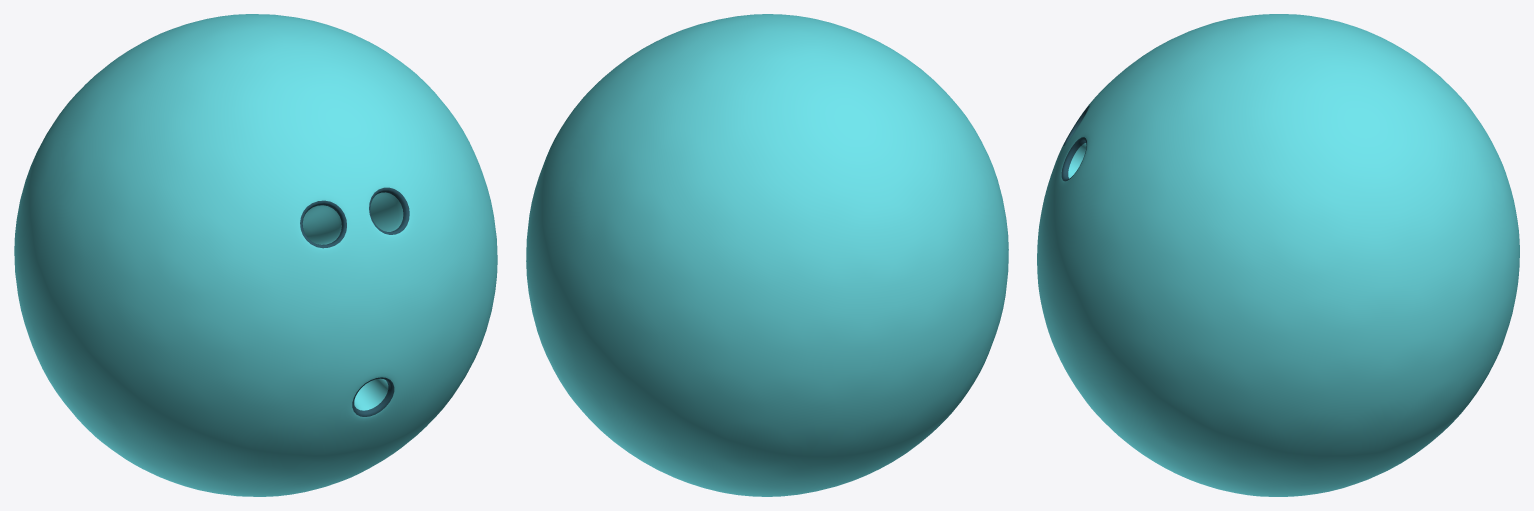
Rendered from bowling_ball.glb.
3 views of the same model, side by side, from view 1: azimuth 30°, elevation 25°; view 2: azimuth 150°, elevation 25°; view 3: azimuth 270°, elevation 25° (orthographic).
Parts seen in each view (by area): view 1: Bowling Ball; view 2: Bowling Ball; view 3: Bowling Ball.
Part boxes in pixels (x1,y1,x2,y2): Bowling Ball: [14, 14, 497, 496]; Bowling Ball: [526, 14, 1008, 496]; Bowling Ball: [1037, 14, 1519, 496].
Size of the model in its own units: 0.2135 by 0.2147 by 0.2136.
